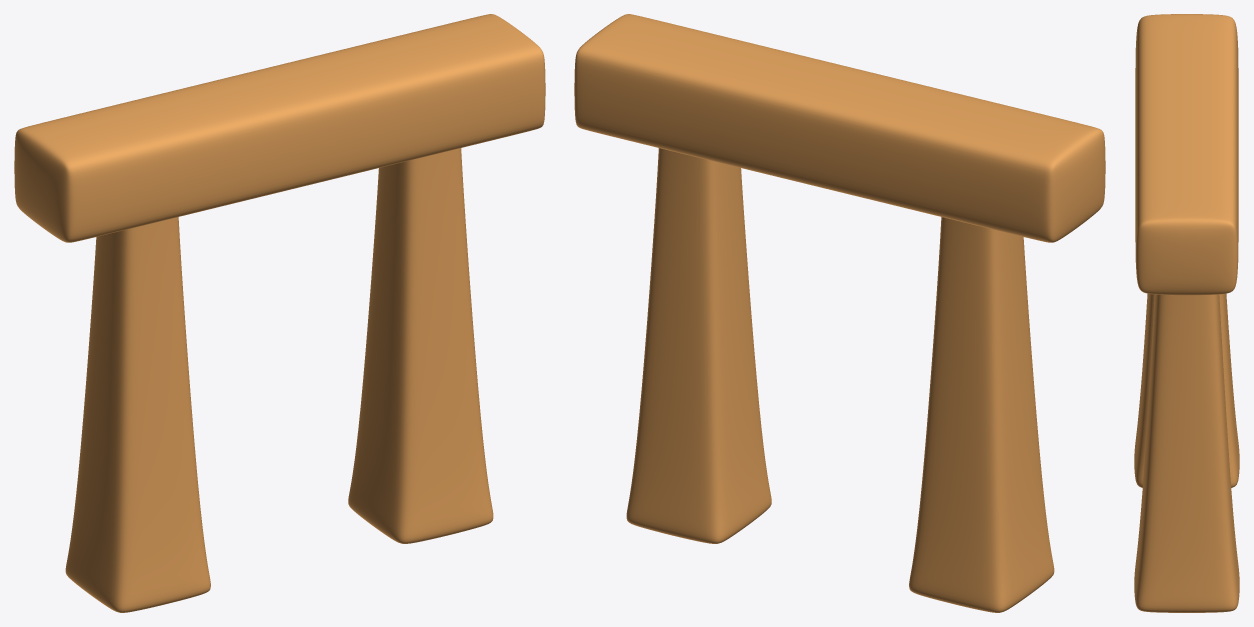
Rendered from EnemyGate.fbx.
3 renders of one model, left to right at view 1: azimuth 30°, elevation 25°; view 2: azimuth 150°, elevation 25°; view 3: azimuth 270°, elevation 25°, orthographic. The views are drawn at different scales.
Visible parts, largest first — view 1: EnemyGate; view 2: EnemyGate; view 3: EnemyGate.
Boxes of the visible parts, bbox=[...] form: EnemyGate: bbox=[14, 14, 545, 612]; EnemyGate: bbox=[574, 14, 1105, 612]; EnemyGate: bbox=[1134, 14, 1239, 612].
Size of the model in its own units: 6.22 by 5.73 by 1.3.
